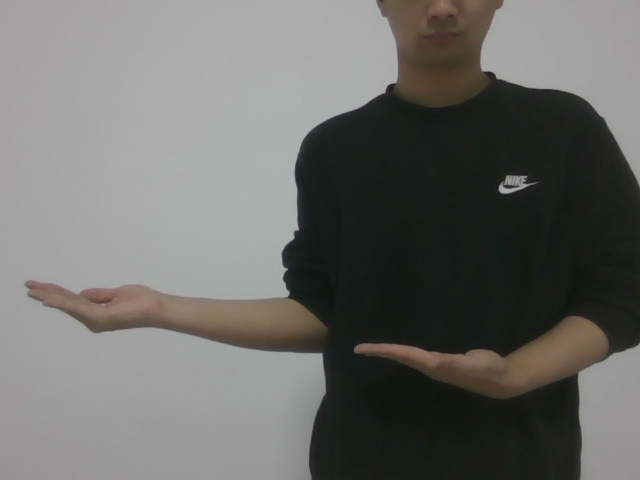please: (20, 262, 526, 412)
